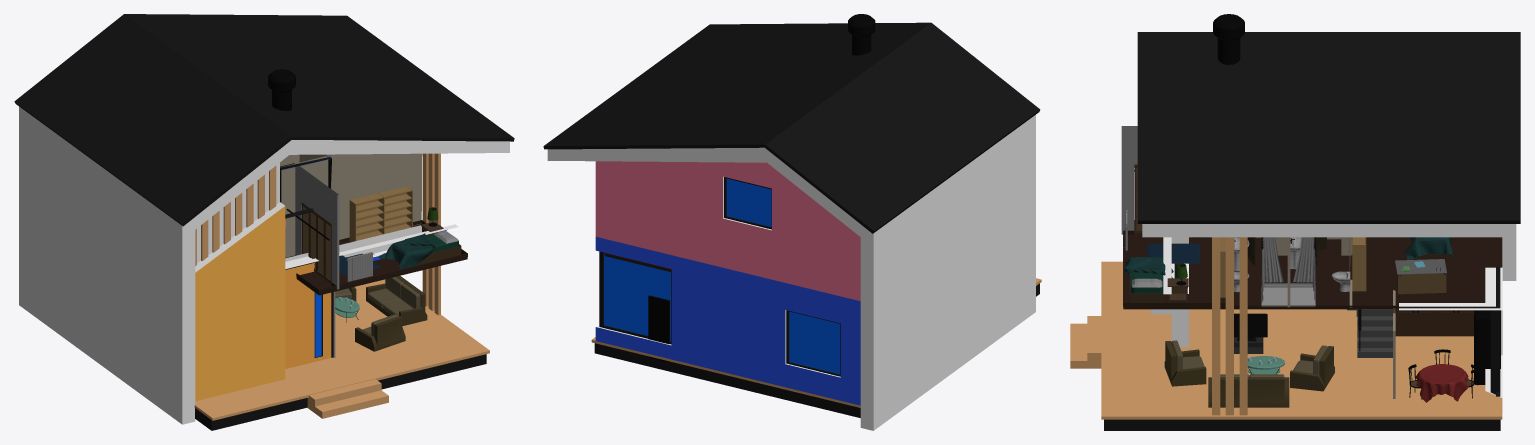
The model's file is SimgleHouse_plain-2.fbx.
The picture shows the model from 3 angles, left to right: view 1: azimuth 30°, elevation 25°; view 2: azimuth 150°, elevation 25°; view 3: azimuth 270°, elevation 25°; orthographic projection. The views are drawn at different scales.
Parts seen in each view (by area): view 1: Single_Family_House_1; view 2: Single_Family_House_1; view 3: Single_Family_House_1.
Part boxes in pixels (x1=…): Single_Family_House_1: x1=14, y1=14, x2=514, y2=430; Single_Family_House_1: x1=543, y1=14, x2=1041, y2=430; Single_Family_House_1: x1=1070, y1=14, x2=1520, y2=430.
Size of the model in its own units: 1082 by 900 by 1109.
